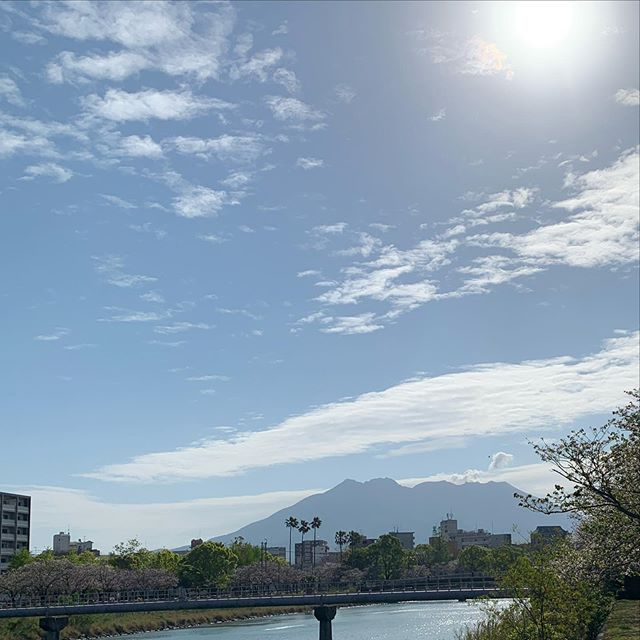bridge: (1, 561, 564, 636)
mountain: (204, 451, 557, 517)
sky: (1, 1, 640, 478)
tree: (537, 419, 640, 640)
